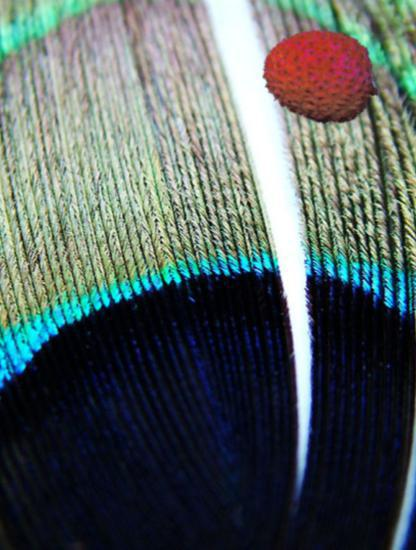Lychee: (262, 14, 385, 137)
